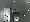person: (2, 9, 10, 22), (14, 10, 21, 21)
